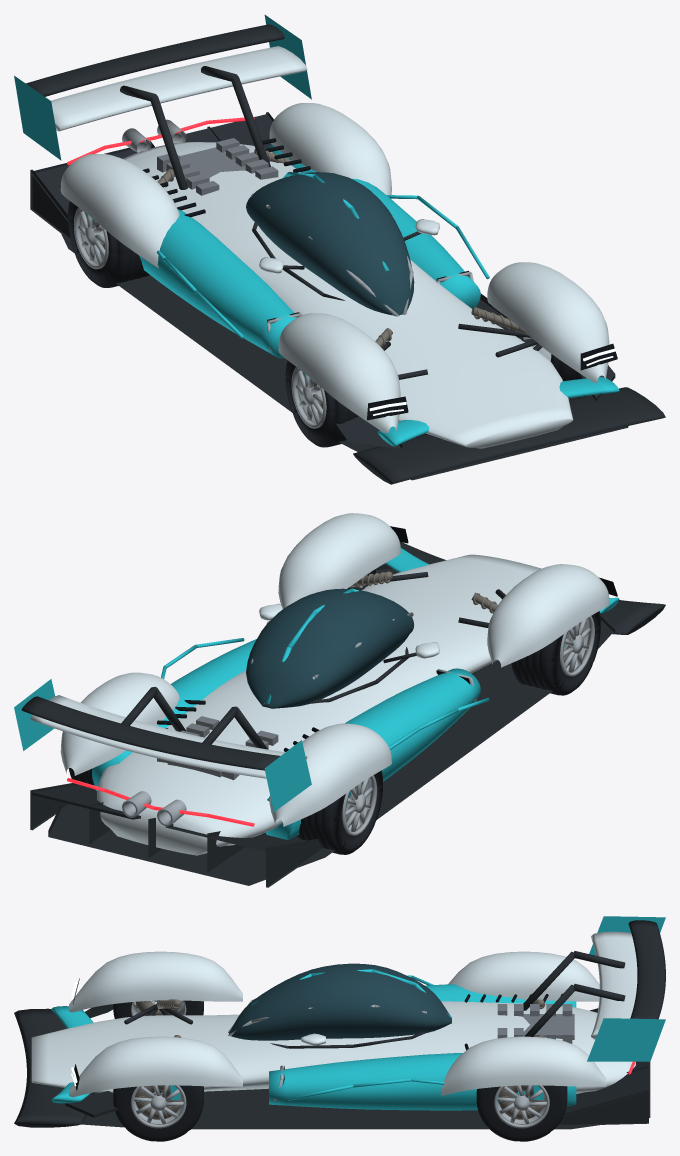
The model's file is concept-apex.glb.
The picture shows the model from 3 angles, top to bottom: view 1: azimuth 30°, elevation 25°; view 2: azimuth 150°, elevation 25°; view 3: azimuth 270°, elevation 25°; orthographic projection. The views are drawn at different scales.
Visible parts, largest first — view 1: NoseHood_Streamlined_MainBody, RoofCanopy_Sculpted_Glass, SidePanel_Undercut_L, Fender_FrontR_Open_Arch, Fender_FrontL_Open_Arch, FrontBumper_Deep_Splitter, Fender_RearL_Open_Arch, RearWing_Swept_Mainplane, Undertray_Venturi_Floor, Fender_RearR_Open_Arch, RearWing_Upper_Flap, RearDiffuser_Channel_Strakes (+16 smaller); view 2: NoseHood_Streamlined_MainBody, RoofCanopy_Sculpted_Glass, Undertray_Venturi_Floor, Fender_FrontL_Open_Arch, Fender_FrontR_Open_Arch, SidePanel_Undercut_L, RearDiffuser_Channel_Strakes, Fender_RearL_Open_Arch, RearWing_Upper_Flap, Fender_RearR_Open_Arch, RearWing_Swept_Mainplane, RearWing_Sail_Endplates (+14 smaller); view 3: NoseHood_Streamlined_MainBody, RoofCanopy_Sculpted_Glass, SidePanel_Undercut_R, Undertray_Venturi_Floor, Fender_FrontL_Open_Arch, Fender_FrontR_Open_Arch, Fender_RearR_Open_Arch, Fender_RearL_Open_Arch, FrontBumper_Deep_Splitter, RearDiffuser_Channel_Strakes, RearWing_Sail_Endplates, RearWing_Swept_Mainplane (+17 smaller).
Boxes of the visible parts, box(x1,y1,x2,y2) form: NoseHood_Streamlined_MainBody: box(122, 142, 573, 448); RoofCanopy_Sculpted_Glass: box(246, 172, 414, 315); SidePanel_Undercut_L: box(139, 209, 296, 358); Fender_FrontR_Open_Arch: box(487, 262, 609, 382); Fender_FrontL_Open_Arch: box(278, 313, 400, 433); FrontBumper_Deep_Splitter: box(353, 387, 665, 484); Fender_RearL_Open_Arch: box(60, 154, 179, 268); RearWing_Swept_Mainplane: box(51, 46, 307, 131); Undertray_Venturi_Floor: box(61, 233, 628, 480); Fender_RearR_Open_Arch: box(269, 103, 391, 194); RearWing_Upper_Flap: box(26, 24, 284, 96); RearDiffuser_Channel_Strakes: box(30, 112, 273, 240); NoseHood_Streamlined_MainBody: box(97, 554, 541, 855); RoofCanopy_Sculpted_Glass: box(246, 588, 413, 708); Undertray_Venturi_Floor: box(48, 634, 611, 885); Fender_FrontL_Open_Arch: box(487, 564, 609, 667); Fender_FrontR_Open_Arch: box(278, 513, 400, 608); SidePanel_Undercut_L: box(266, 668, 480, 839); RearDiffuser_Channel_Strakes: box(30, 781, 322, 887); Fender_RearL_Open_Arch: box(269, 723, 391, 826); RearWing_Upper_Flap: box(21, 696, 280, 770); Fender_RearR_Open_Arch: box(60, 672, 179, 775); RearWing_Swept_Mainplane: box(30, 695, 307, 778); RearWing_Sail_Endplates: box(14, 679, 311, 811); NoseHood_Streamlined_MainBody: box(31, 1001, 635, 1093); RoofCanopy_Sculpted_Glass: box(229, 963, 451, 1040); SidePanel_Undercut_R: box(269, 1053, 576, 1110); Undertray_Venturi_Floor: box(81, 1061, 650, 1129); Fender_FrontL_Open_Arch: box(69, 951, 242, 1012); Fender_FrontR_Open_Arch: box(69, 1036, 242, 1097); Fender_RearR_Open_Arch: box(441, 1036, 606, 1095); Fender_RearL_Open_Arch: box(448, 951, 599, 1001); FrontBumper_Deep_Splitter: box(14, 1008, 93, 1127); RearDiffuser_Channel_Strakes: box(559, 1008, 648, 1125); RearWing_Sail_Endplates: box(587, 916, 665, 1061); RearWing_Swept_Mainplane: box(591, 931, 637, 1039).
Bounding box in the file's own units: 2.05 × 1.04 × 5.03.
